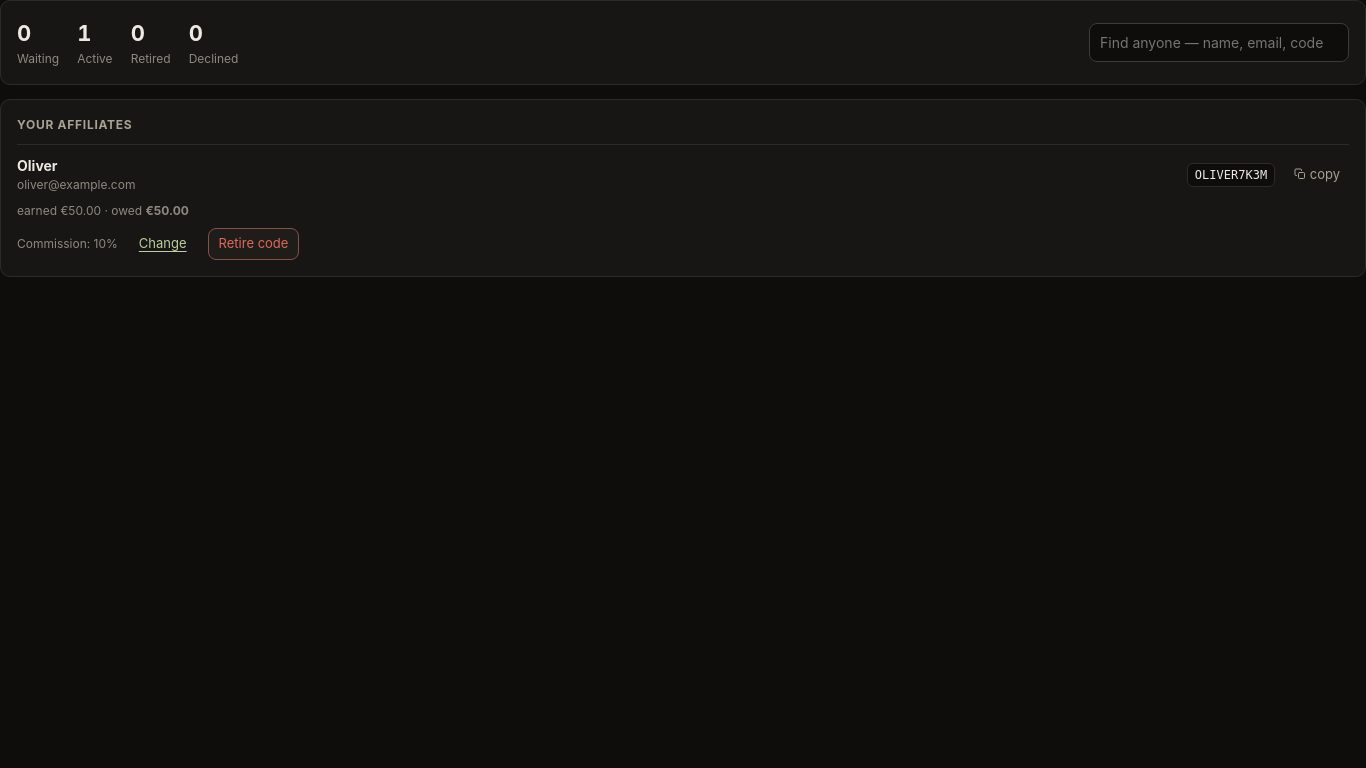
it: retiring a code › stays disarmed until the code is typed
Click the button "Retire code" at x=254, y=244, box [208,228,299,260]
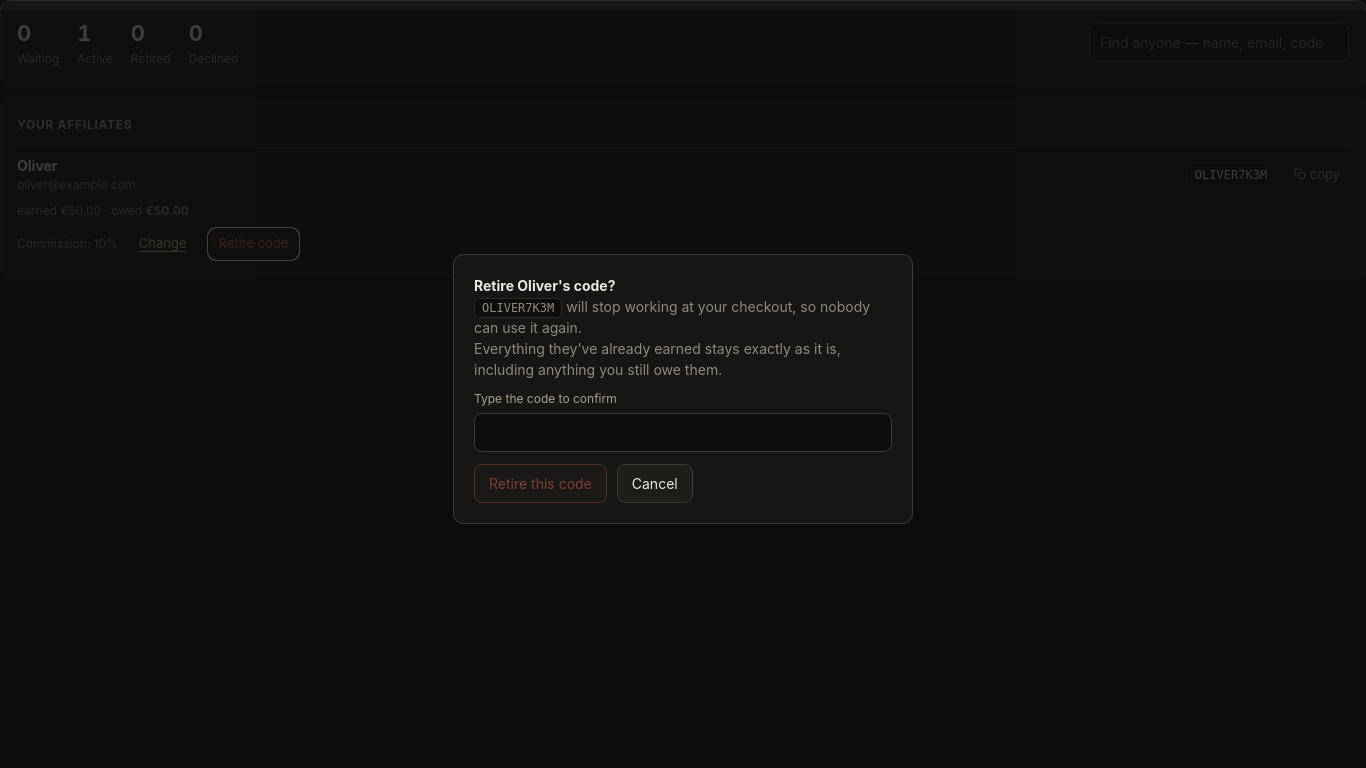
Result: the button "Retire this code" is disabled at [474,464,607,503]
Type "OLIVER" into the field at x=683, y=432, box [474,413,892,452]
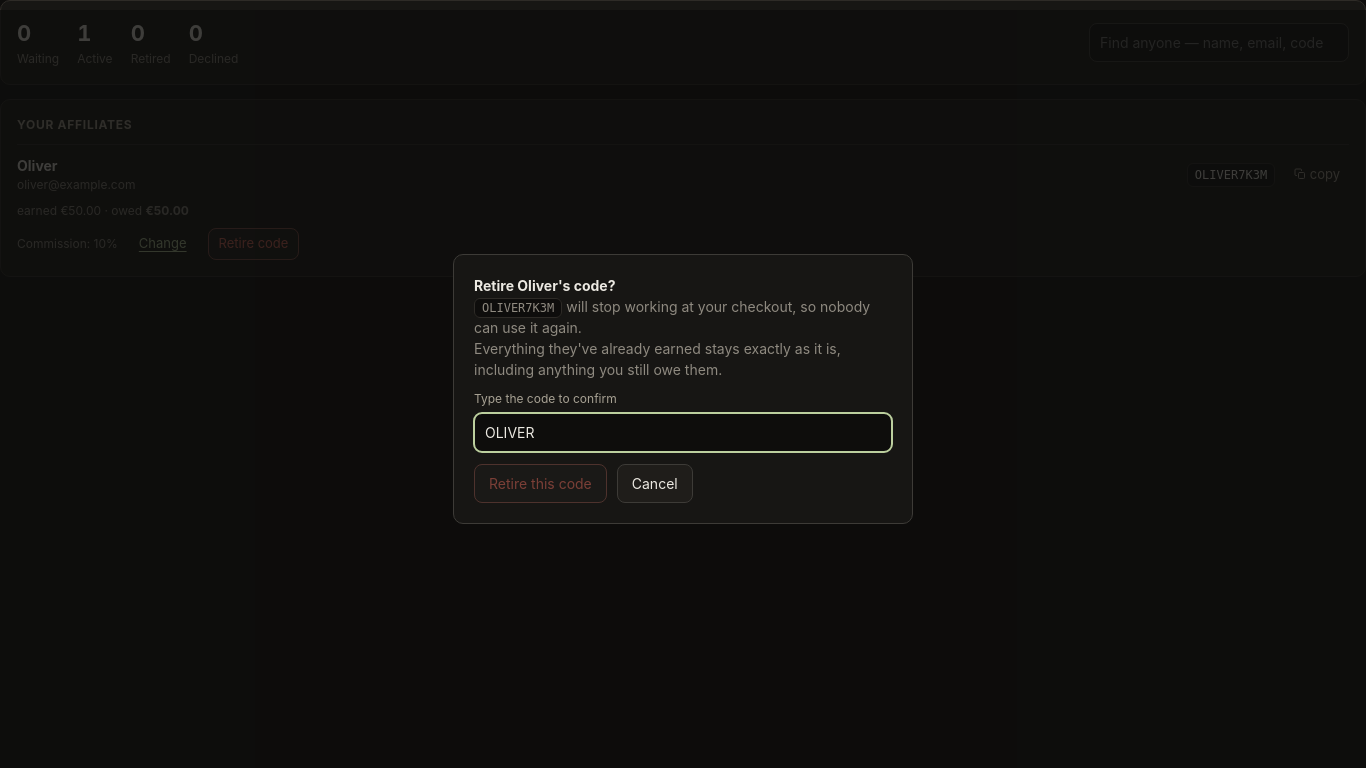
Result: the button "Retire this code" is disabled at [474,464,607,503]
Type "7K3M" into the field at x=683, y=432, box [474,413,892,452]
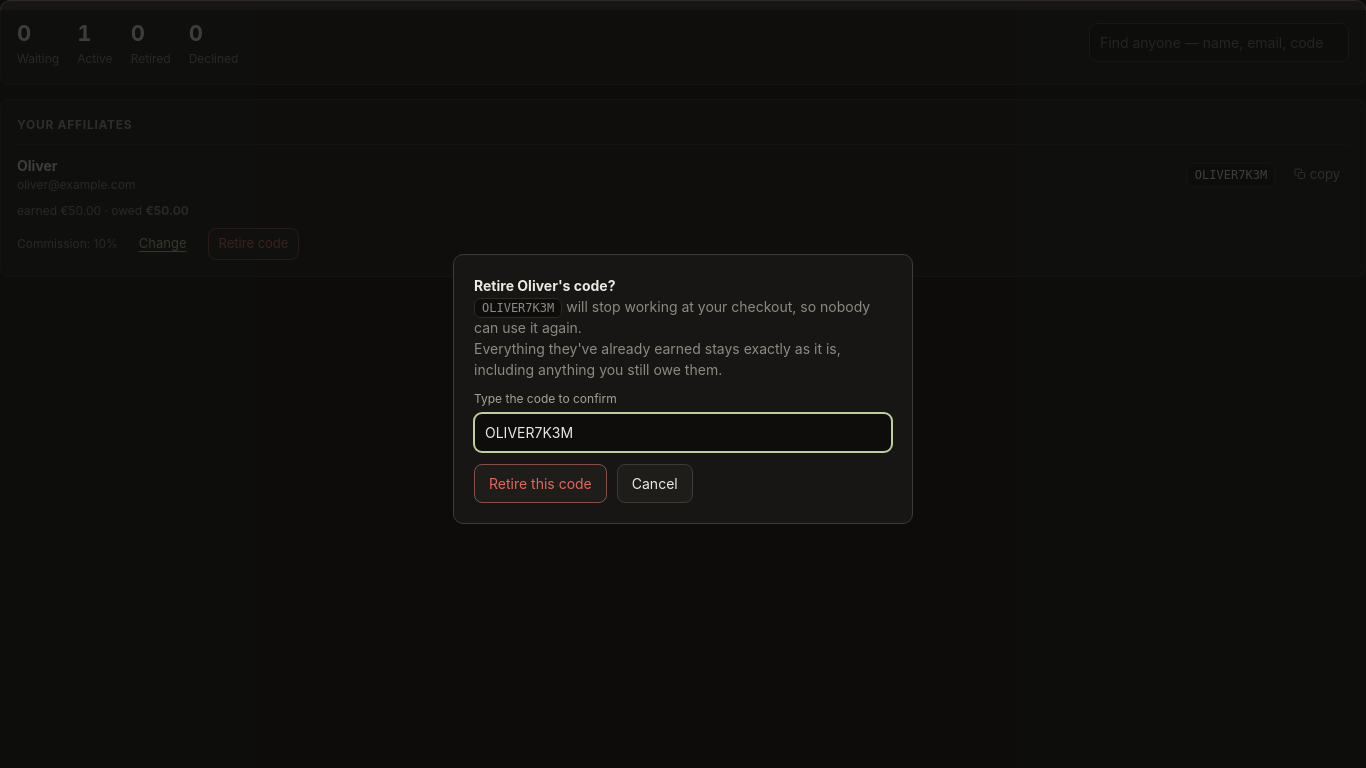
Result: the button "Retire this code" is enabled at [474,464,607,503]
